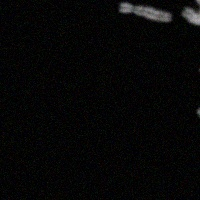chromosome: (120, 1, 172, 21), (182, 0, 200, 24), (196, 99, 200, 118), (199, 65, 200, 82)
